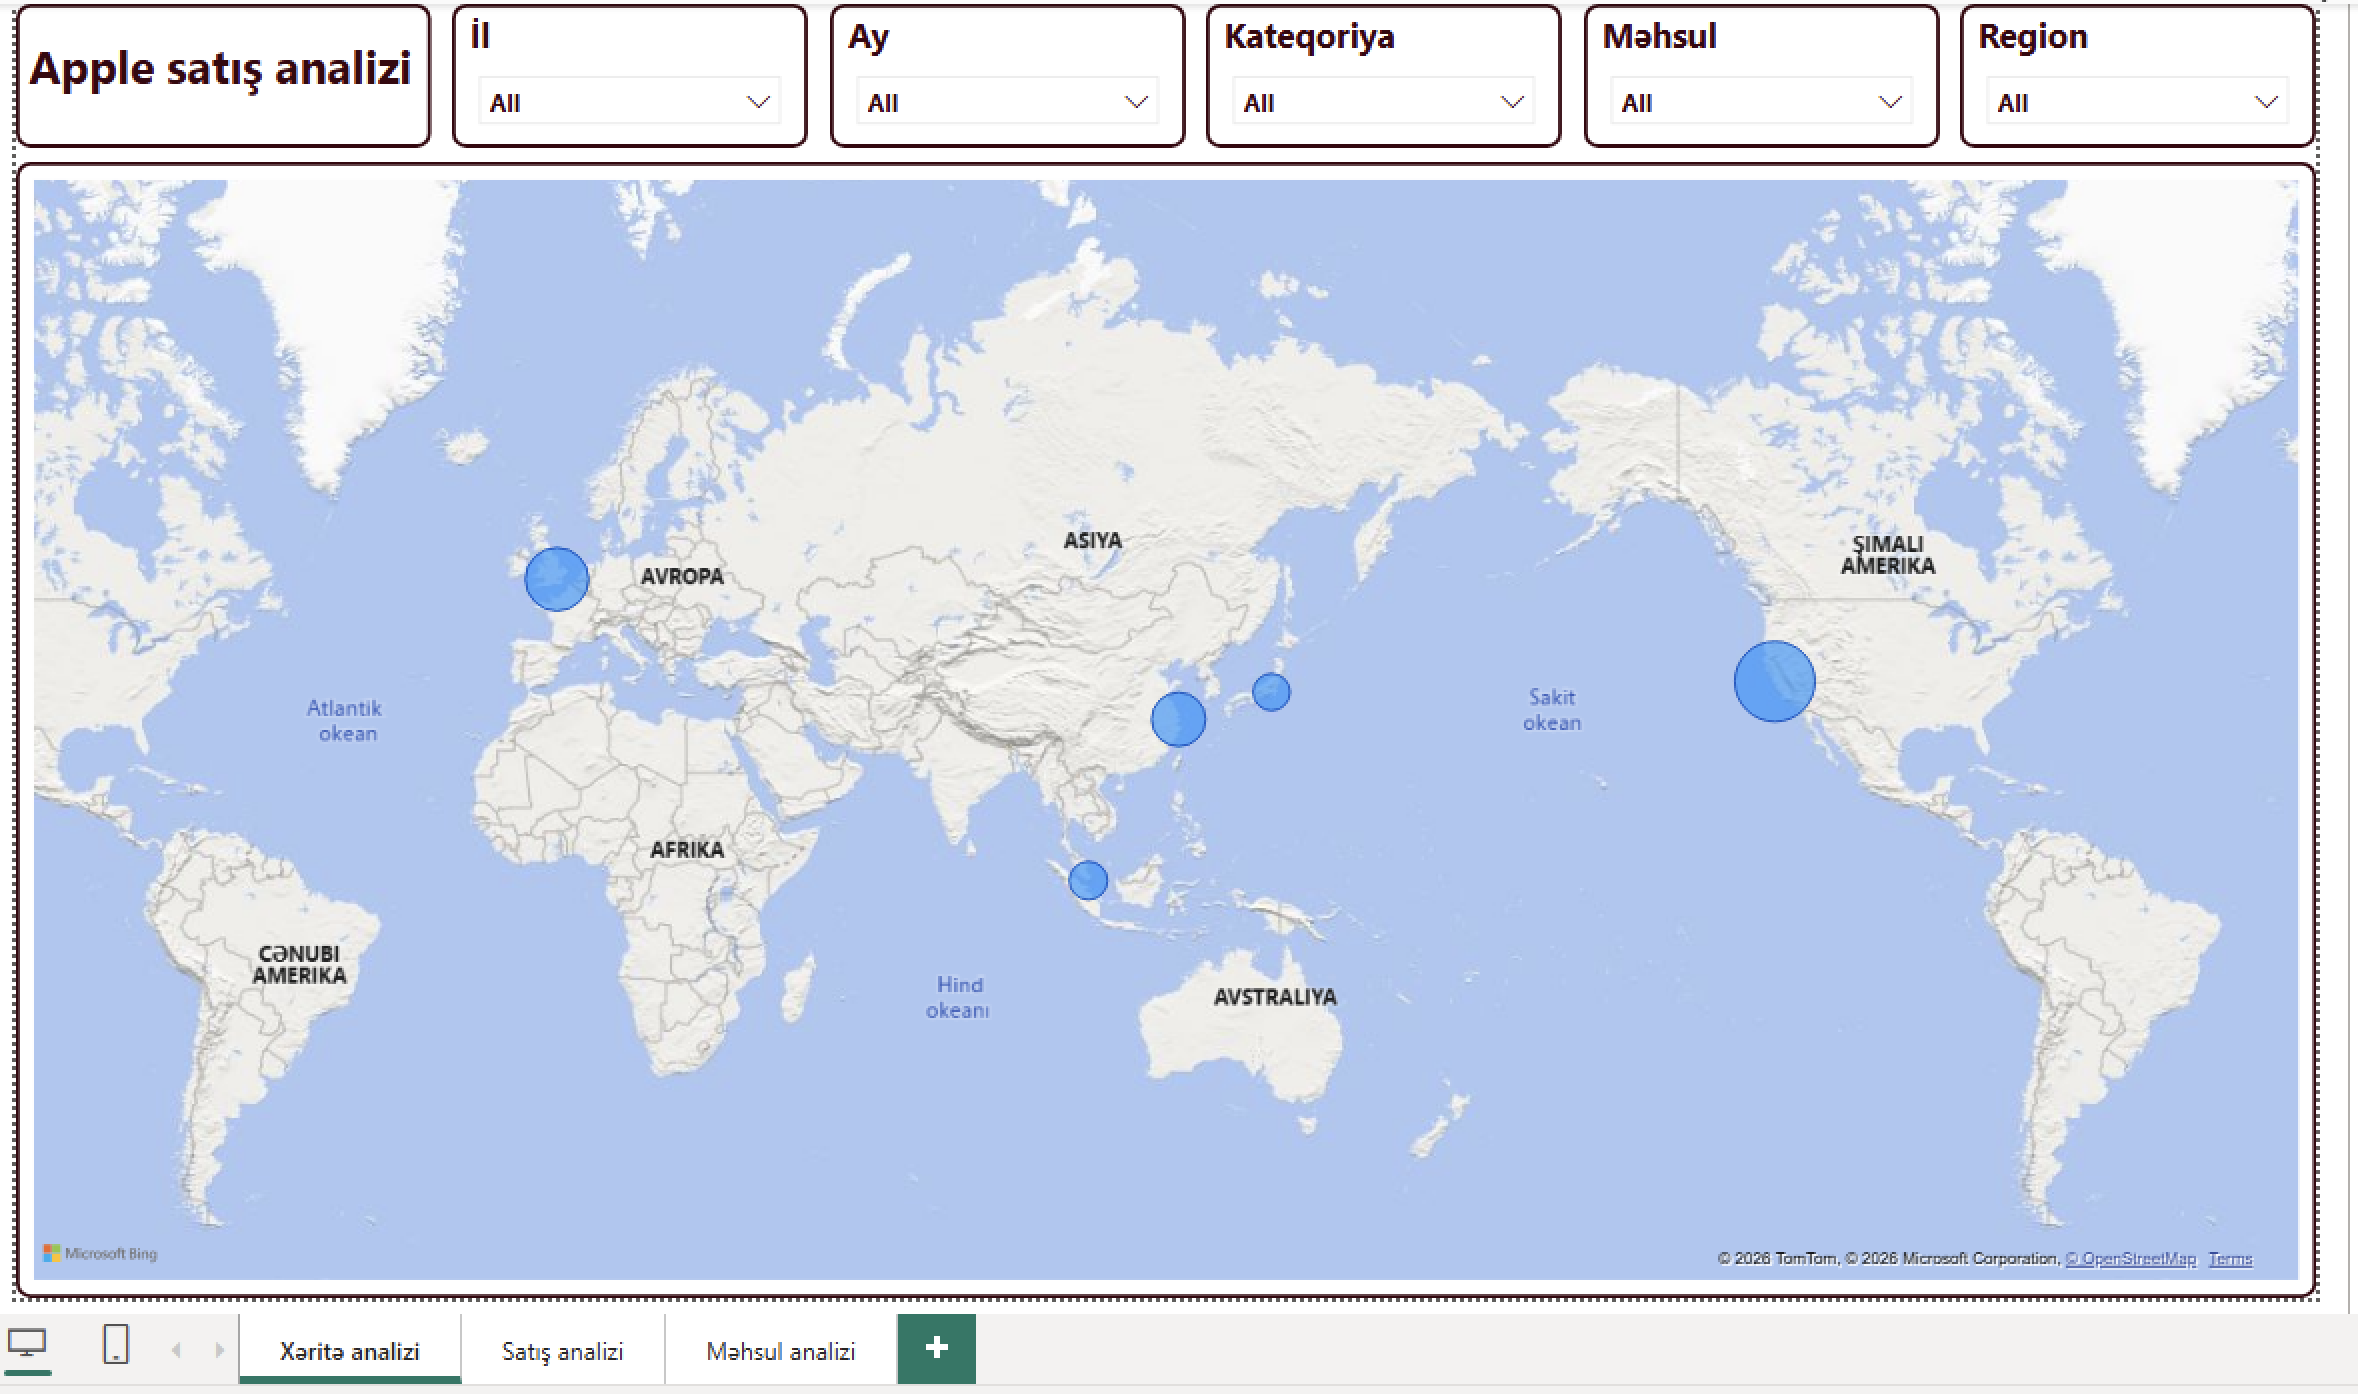

Layout of this report page (visuals, bound fields, positions):
{"tool":"powerbi","page":{"name":"Xəritə analizi","canvas":[1280,720],"ordinal":0},"visuals":[{"type":"slicer","title":"İl","fields":{"Values":["Calendar.Date.Variation.Date Hierarchy.Year"]},"box":[242.6,0,198.2,79.5],"z":0},{"type":"slicer","title":"Ay","fields":{"Values":["Calendar.Date.Variation.Date Hierarchy.Month"]},"box":[452.4,0,198.2,79.5],"z":1000},{"type":"slicer","title":"Kateqoriya","fields":{"Values":["Apple_Gəlir_2020_2025.Kateqoriya"]},"box":[662.2,0,198.2,79.5],"z":2000},{"type":"slicer","title":"Məhsul","fields":{"Values":["Apple_Məhsul.Məhsul_adı"]},"box":[872,0,198.2,79.5],"z":3000},{"type":"slicer","title":"Region","fields":{"Values":["Apple_Region.Region_adı"]},"box":[1081.8,0,198.2,79.5],"z":4000},{"type":"textbox","box":[150,220,300,300],"z":5000},{"type":"textbox","title":"Apple satış analizi","box":[0,0,231,79.5],"z":6000},{"type":"map","fields":{"Y":["Max(Apple_Region.lat)"],"X":["Max(Apple_Region.lng)"],"Category":["Apple_Region.Region_adı"],"Size":["DAX.Ümumi gəlir"]},"box":[0,87.9,1279.8,632.1],"z":7000}]}

Visuals, with their boxes in screenshot pixels (x1, y1, x2, y2):
"İl" slicer: <bbox>447, 0, 807, 138</bbox>
"Ay" slicer: <bbox>828, 0, 1188, 138</bbox>
"Kateqoriya" slicer: <bbox>1209, 0, 1569, 138</bbox>
"Məhsul" slicer: <bbox>1590, 0, 1950, 138</bbox>
"Region" slicer: <bbox>1971, 0, 2332, 138</bbox>
textbox: <bbox>279, 394, 824, 939</bbox>
"Apple satış analizi" textbox: <bbox>6, 0, 426, 138</bbox>
map - Max(Apple_Region.lat) x Max(Apple_Region.lng): <bbox>6, 154, 2331, 1302</bbox>
